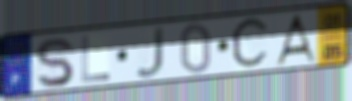0: (178, 22, 212, 76)
A: (272, 12, 318, 67)
C: (229, 14, 272, 74)
J: (133, 25, 167, 80)
L: (79, 35, 112, 85)
S: (33, 35, 76, 90)
